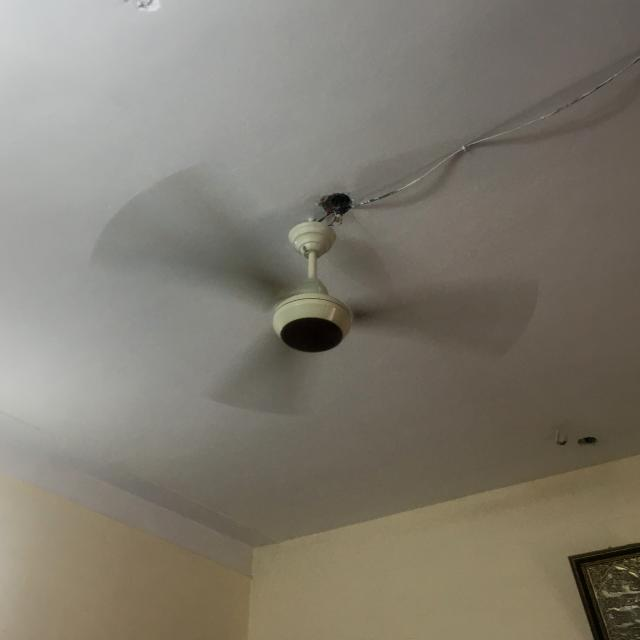on: (81, 152, 549, 426)
